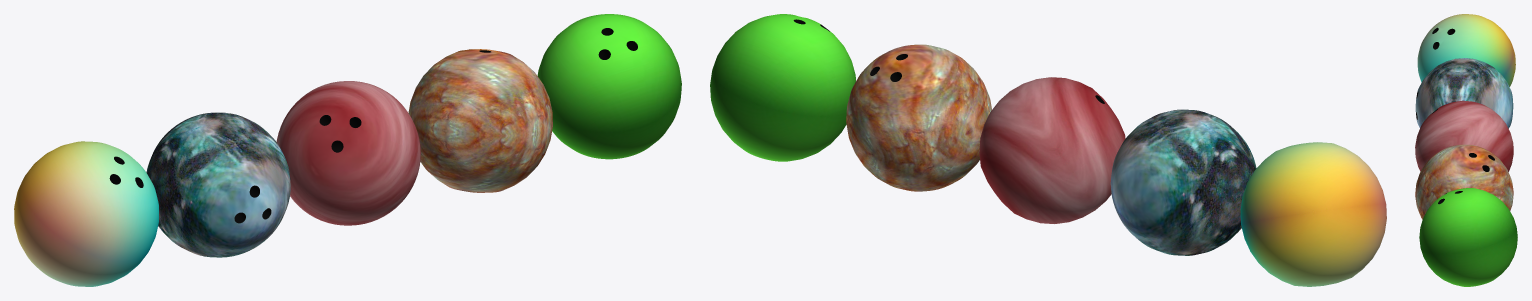
Rendered from Bowling Balls.FBX.
3 renders of one model, left to right at view 1: azimuth 30°, elevation 25°; view 2: azimuth 150°, elevation 25°; view 3: azimuth 270°, elevation 25°, orthographic. The views are drawn at different scales.
Parts seen in each view (by area): view 1: Ball1, Ball4, Ball2, Ball5, Ball3; view 2: Ball1, Ball5, Ball4, Ball3, Ball2; view 3: Ball5, Ball1, Ball3, Ball4, Ball2.
Part boxes in pixels (bbox=[...]): Ball1: bbox=[14, 141, 158, 286]; Ball4: bbox=[408, 49, 552, 192]; Ball2: bbox=[146, 112, 290, 257]; Ball5: bbox=[537, 14, 681, 159]; Ball3: bbox=[276, 81, 420, 225]; Ball1: bbox=[1240, 142, 1386, 286]; Ball5: bbox=[710, 14, 855, 161]; Ball4: bbox=[846, 44, 991, 191]; Ball3: bbox=[979, 77, 1125, 223]; Ball2: bbox=[1110, 109, 1256, 255]; Ball5: bbox=[1419, 188, 1517, 286]; Ball1: bbox=[1417, 14, 1515, 86]; Ball3: bbox=[1415, 100, 1513, 171]; Ball4: bbox=[1415, 144, 1513, 219]; Ball2: bbox=[1415, 58, 1513, 128].
Bounding box in the file's own units: 366 × 71.8 × 73.97.
2 materials, 2 textured.
